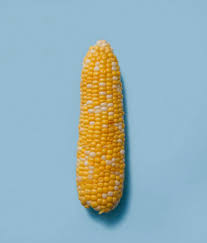milho: (77, 37, 128, 220)
